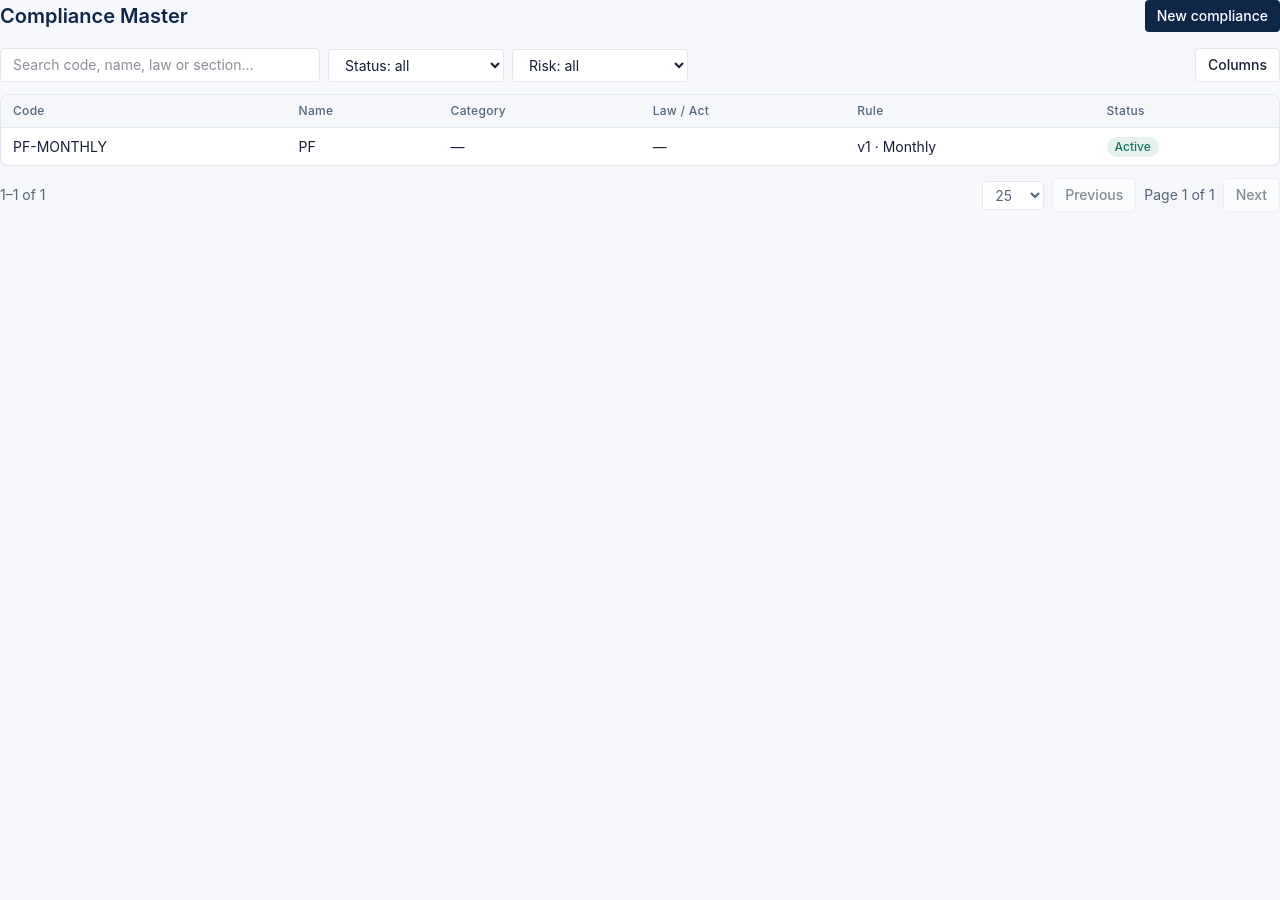
Scenario: AdminRegister (Compliance Master) › rejects a malformed code before it reaches the database
Click the button "New compliance". click: (1212, 16)
box: [1145, 0, 1279, 32]
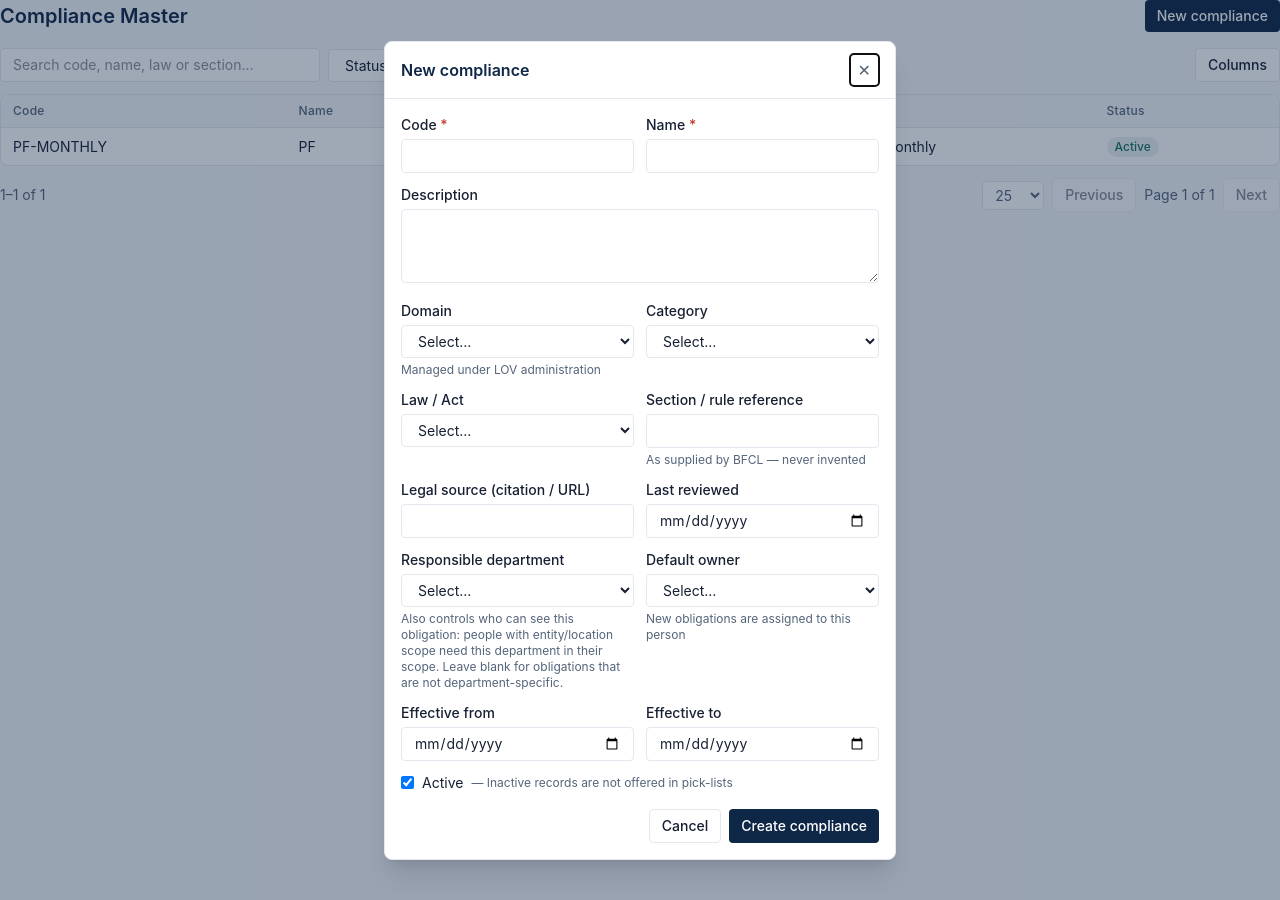
Type "pf monthly" into the field labelled "Code *". click: (518, 156)
box: [401, 138, 634, 172]
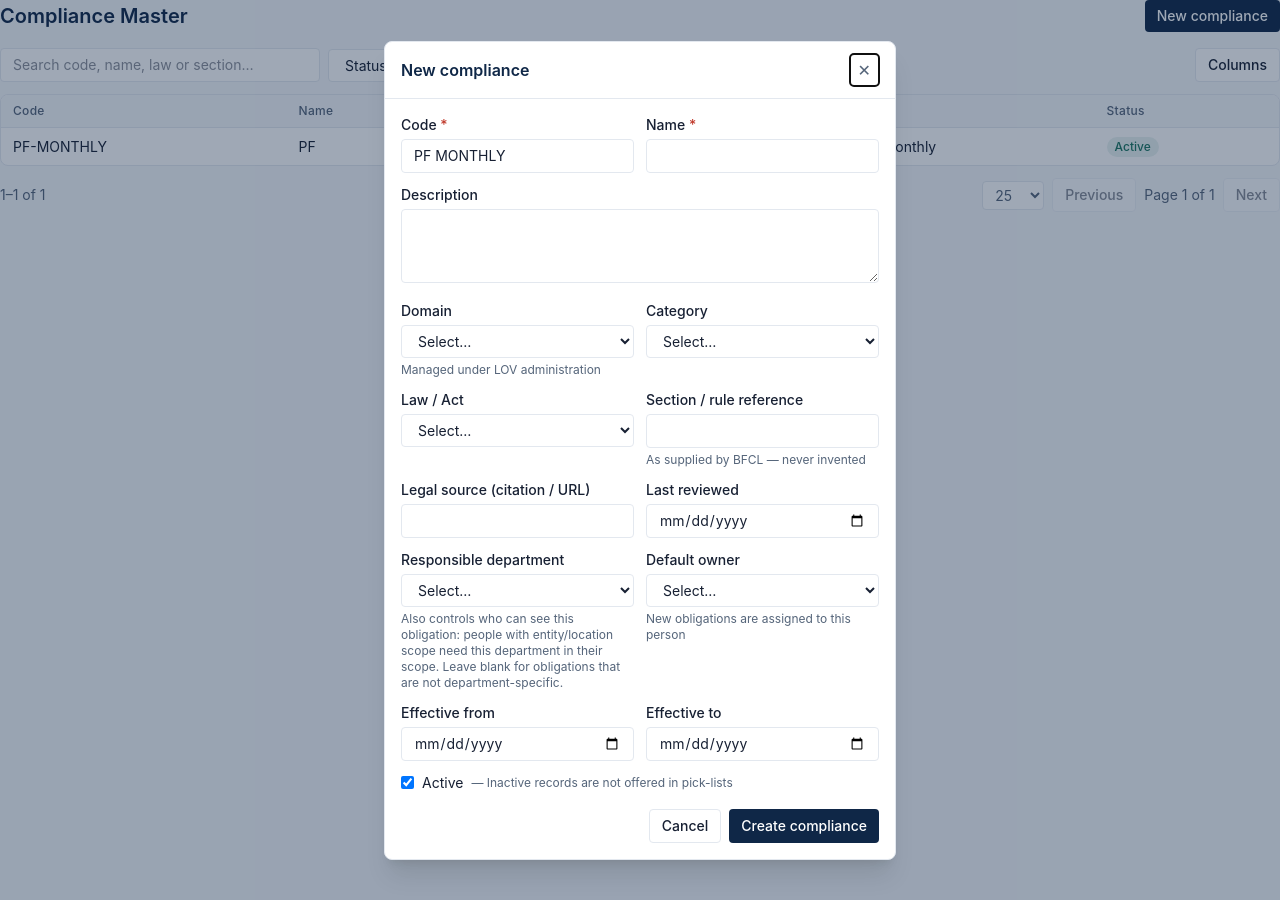
Type "PF" into the field labelled "Name *". click: (762, 156)
box: [646, 138, 879, 172]
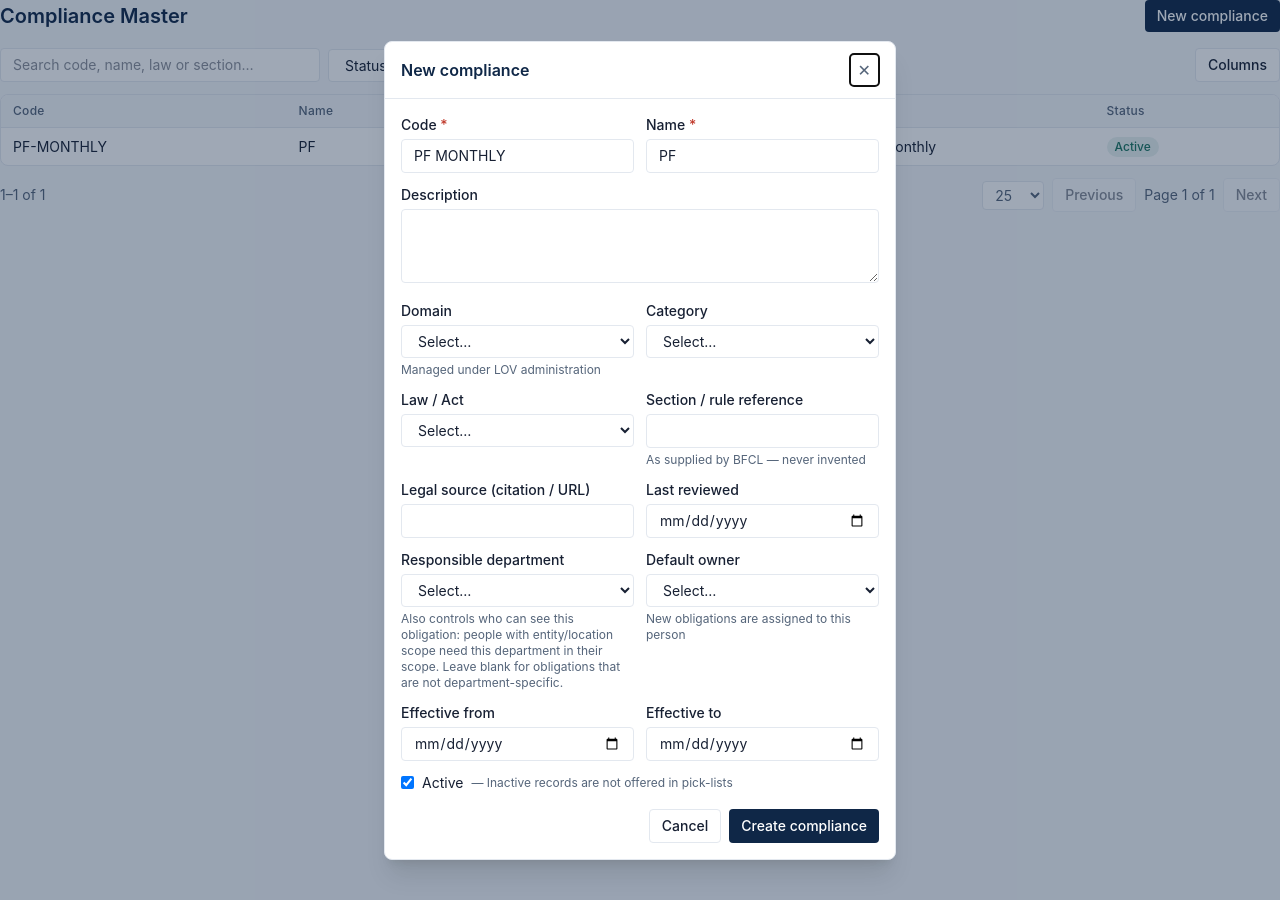
Click the button "Create compliance". click: (804, 826)
box: [729, 808, 879, 842]
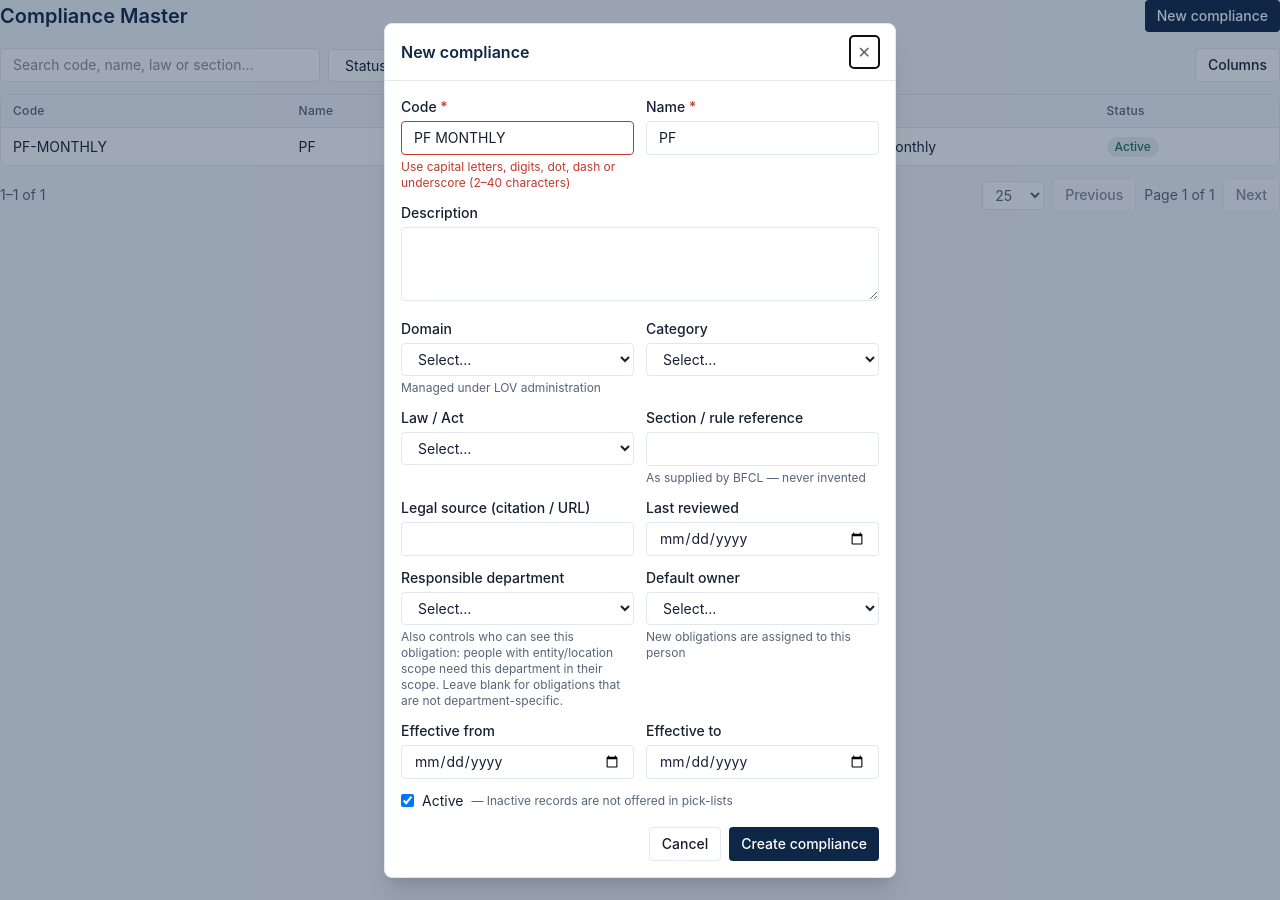
Expected: the text "Use capital letters, digits, dot, dash or underscore (2–40 characters)" is shown, [401, 158, 634, 190]
